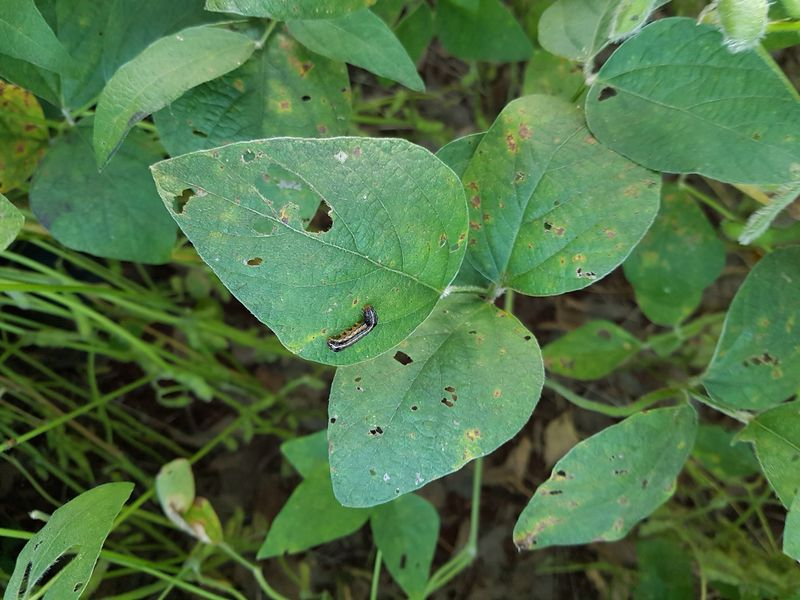Spodoptera_albula: (320, 297, 388, 355)
